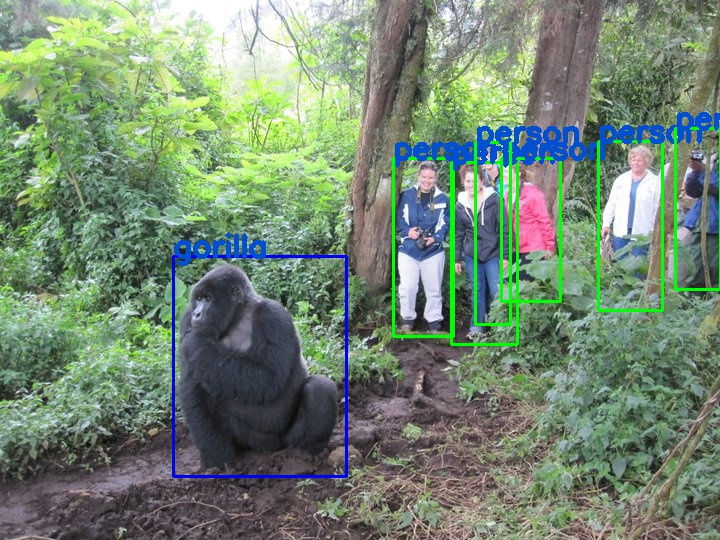gorilla: (173, 256, 346, 476)
person: (450, 162, 516, 344), (597, 141, 662, 310), (393, 157, 452, 335), (501, 157, 560, 301), (675, 127, 720, 288), (475, 141, 510, 323)
